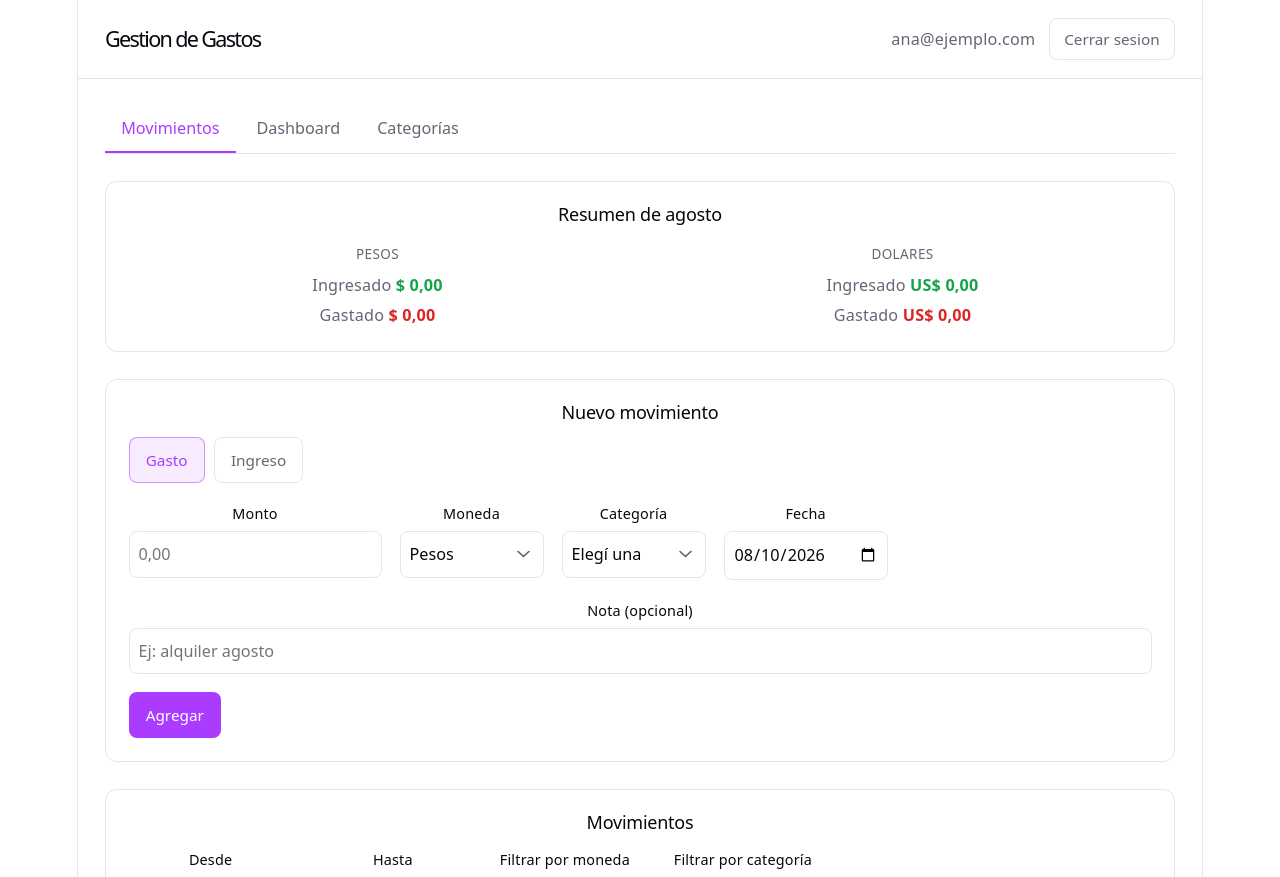
Scenario: formulario de carga (RF-10 a RF-13) › AC-18: un monto en cero no se guarda y se muestra el motivo
The image size is (1280, 877).
Expected: the heading "Nuevo movimiento" is shown, [562, 400, 718, 424]
Step 1. Type "0" into the field labelled "Monto" → (255, 555), box [128, 532, 382, 578]
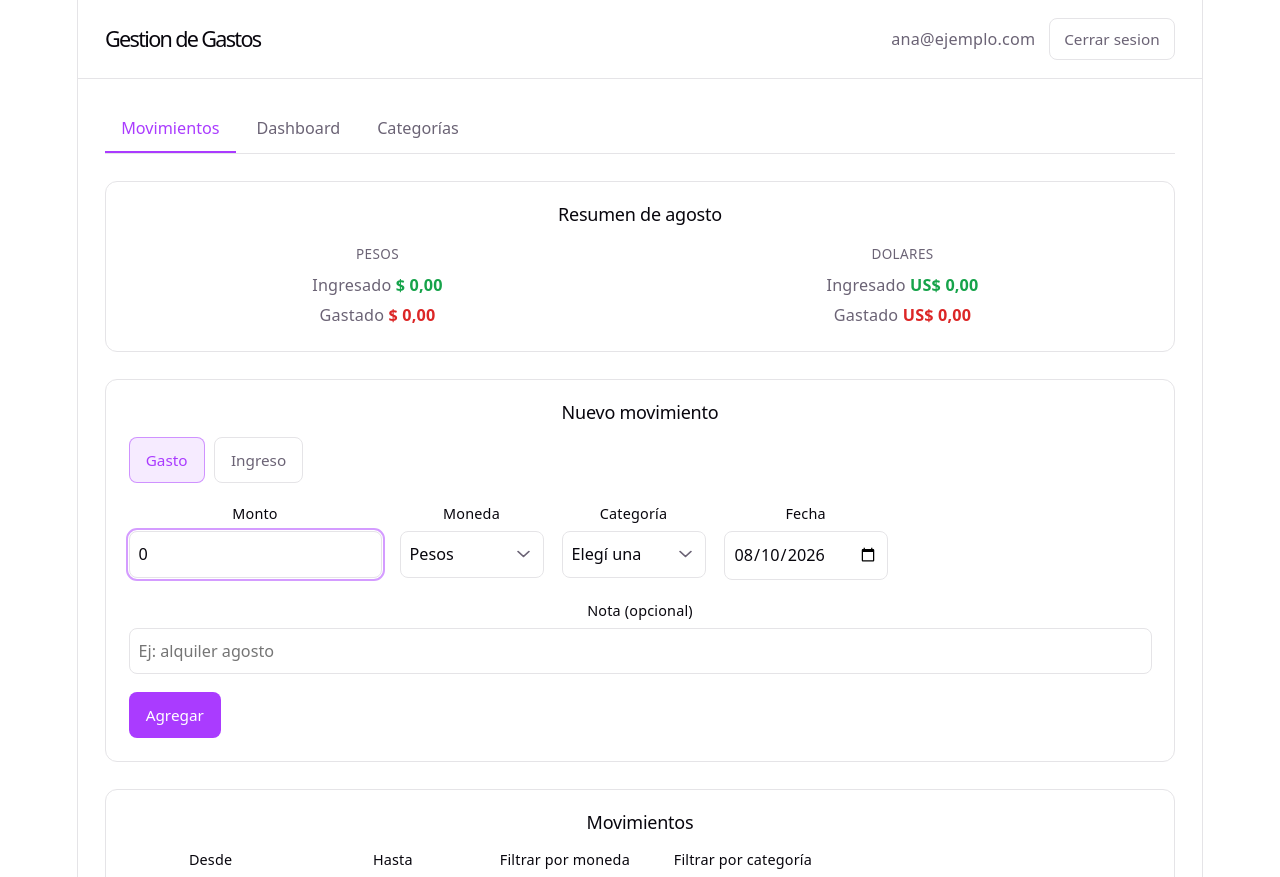
Step 2. Select "Comida" in the dropdown labelled "Categoría" → (634, 555), box [562, 532, 706, 578]
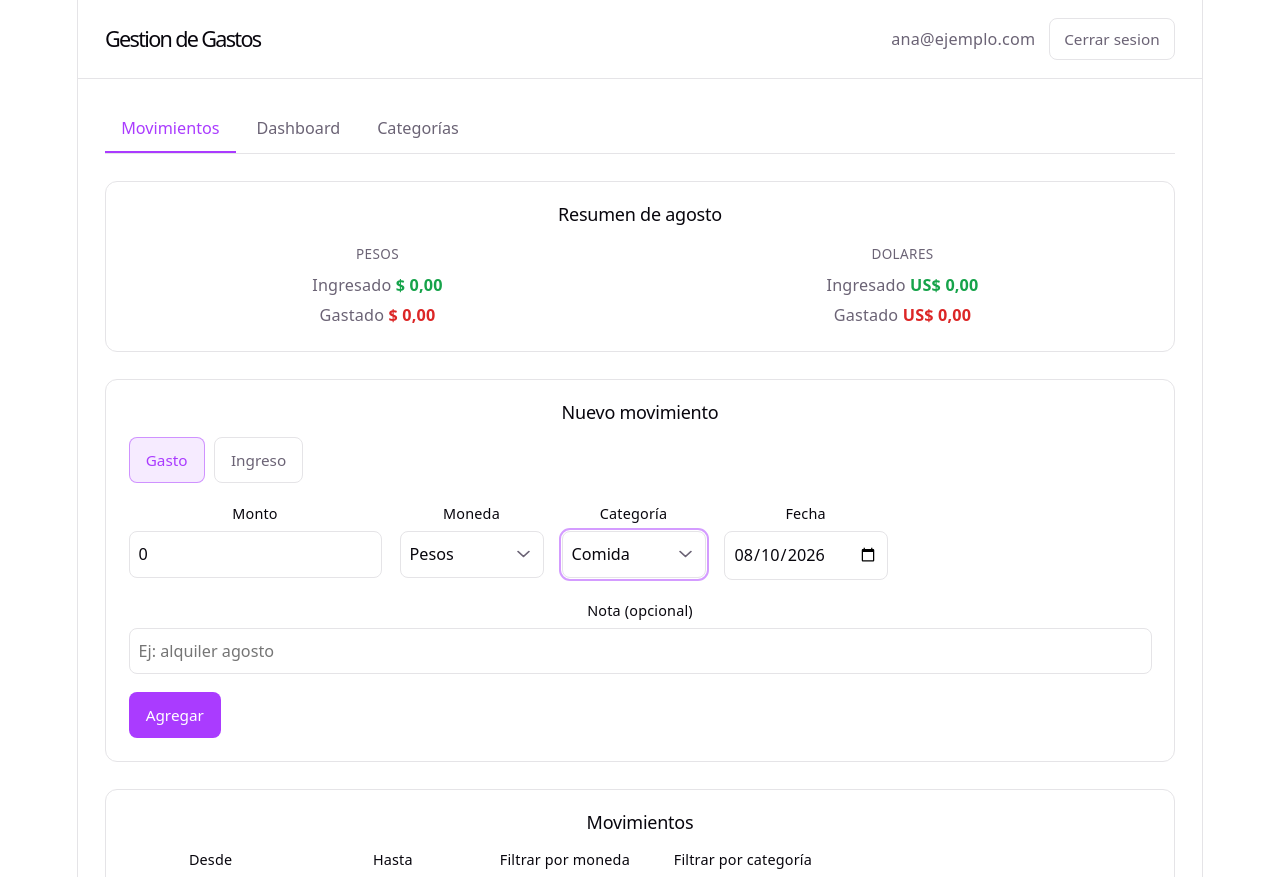
Step 3. Click the button "Agregar" → (175, 715), box [128, 692, 221, 738]
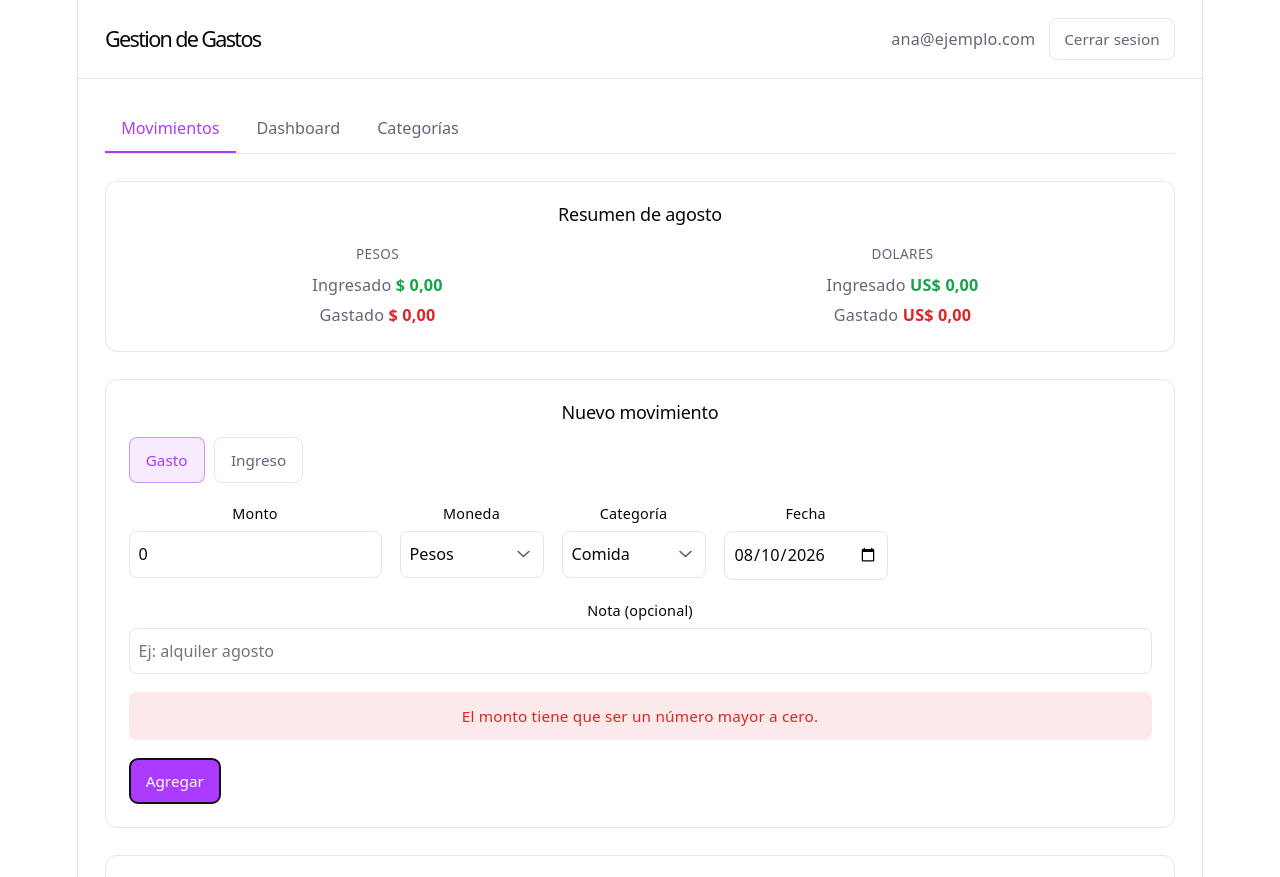
Result: the message shows "mayor a cero" at [462, 706, 818, 726]
